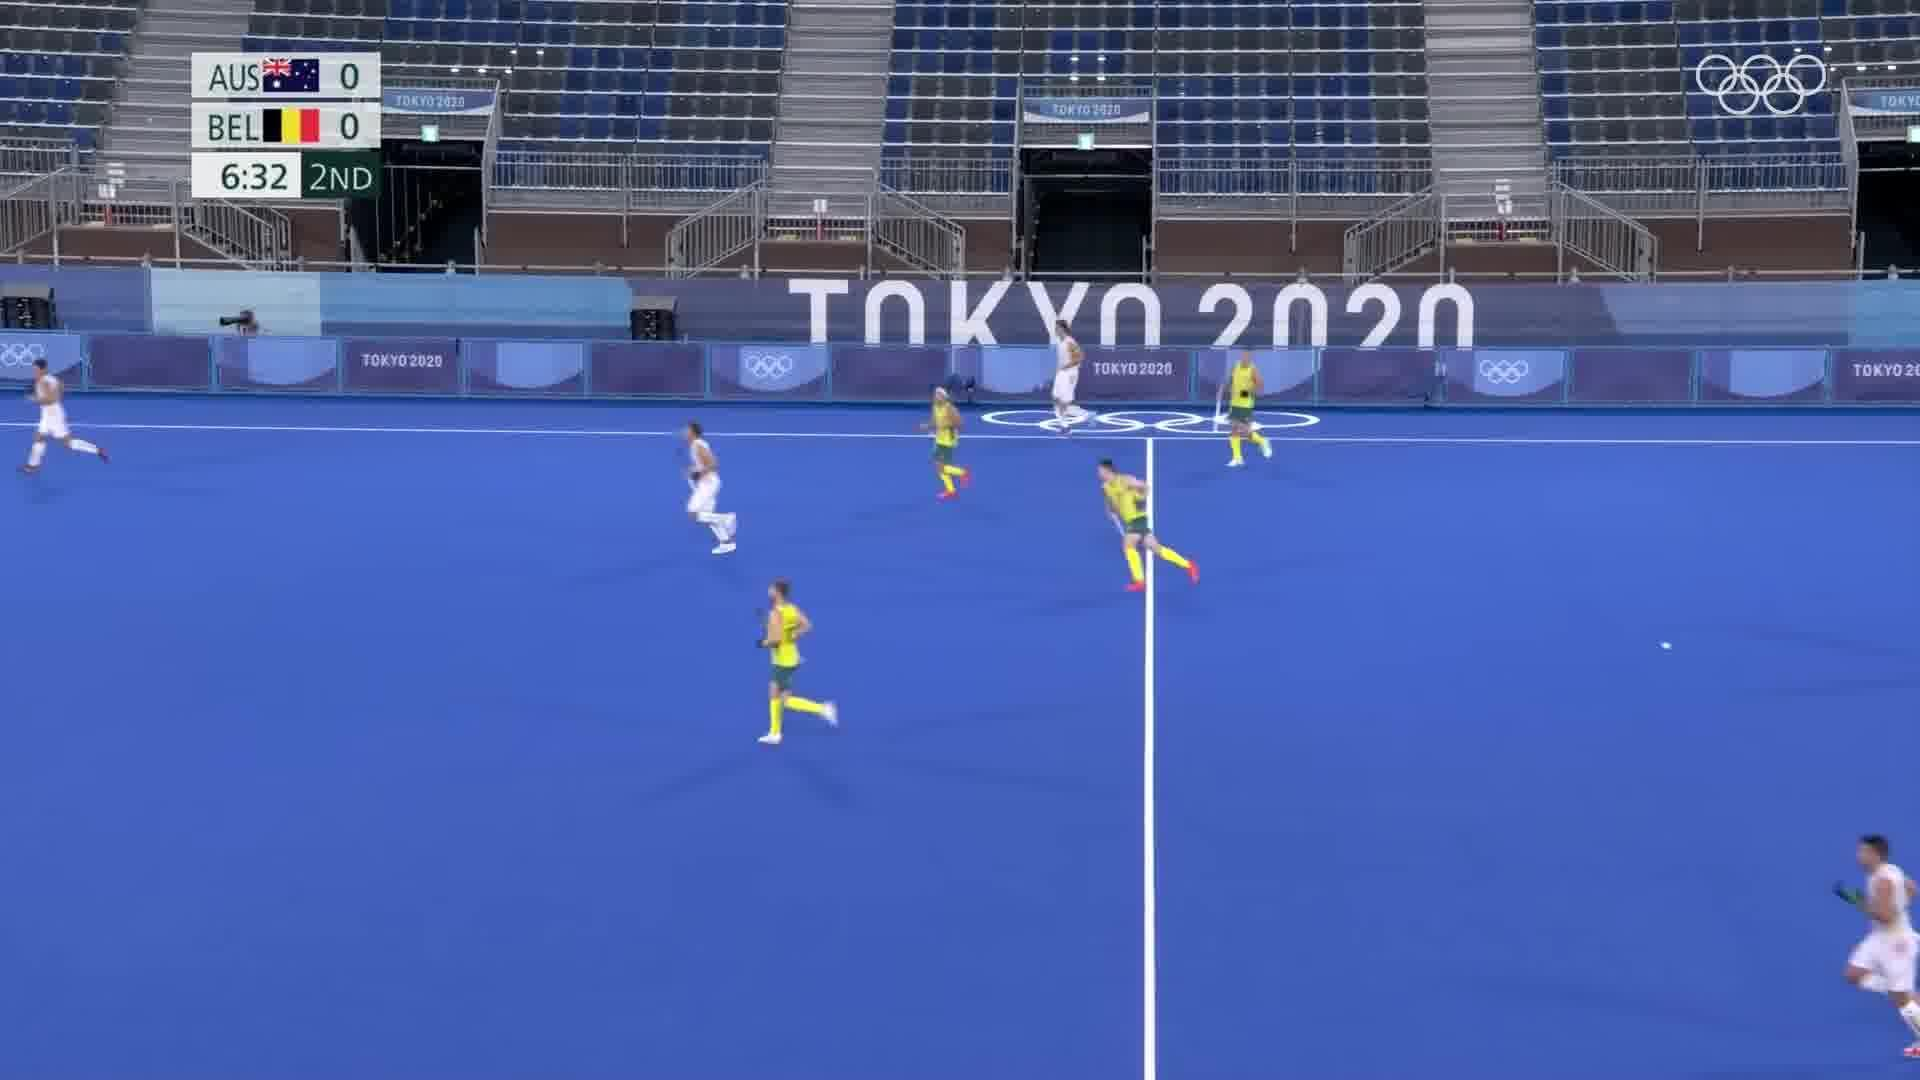ball: (1652, 632, 1680, 659)
